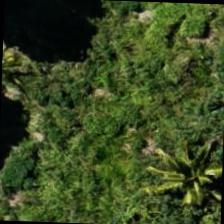Kelapa_Sawit: (154, 124, 224, 216)
